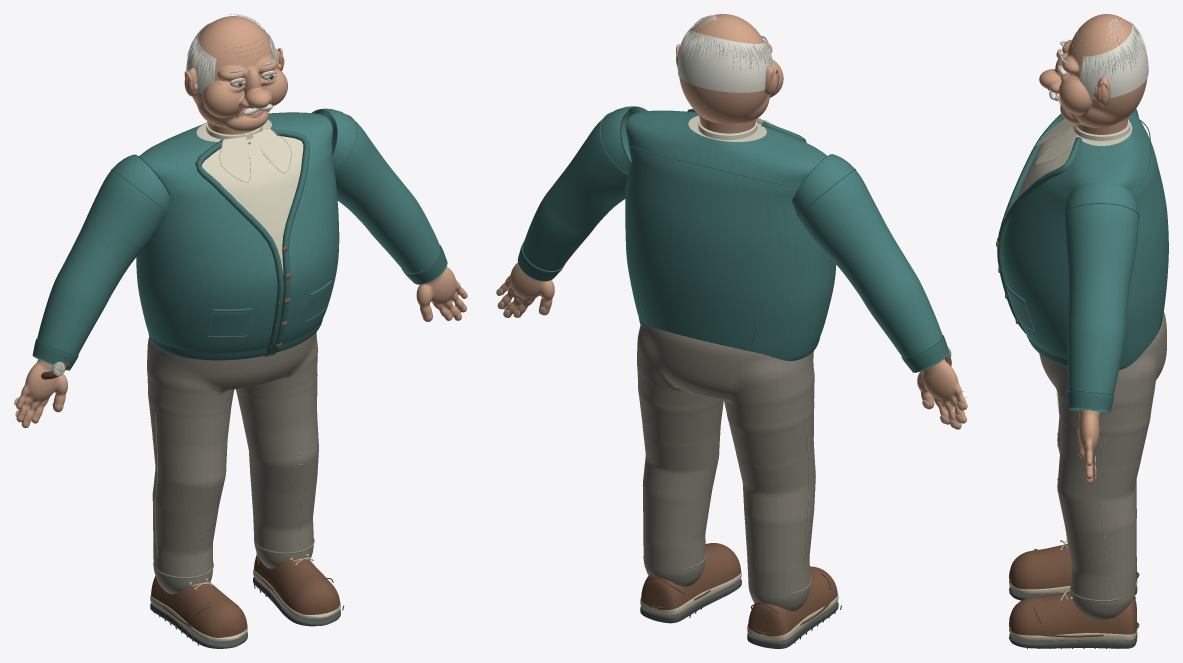
The picture shows the model from 3 angles, left to right: view 1: azimuth 30°, elevation 25°; view 2: azimuth 150°, elevation 25°; view 3: azimuth 270°, elevation 25°; orthographic projection. The views are drawn at different scales.
Parts seen in each view (by area): view 1: Trousers • coherent seat crotch and legs, Cardigan • rounded chest and abdomen, Knitted sleeve -1, Knitted sleeve 1, Otto • sculpted aged head, Details • 03 • darker cardigan ribbing, Oxford shirt beneath open cardigan, Broad chestnut walking shoe -1, Broad chestnut walking shoe 1, Anatomical five digit hand left, Anatomical five digit hand right, Details • Dark flexible walking outsole (+5 smaller); view 2: Cardigan • rounded chest and abdomen, Trousers • coherent seat crotch and legs, Knitted sleeve -1, Knitted sleeve 1, Silver horseshoe hair • bare crown, Otto • sculpted aged head, Broad chestnut walking shoe 1, Details • 03 • darker cardigan ribbing, Broad chestnut walking shoe -1, Anatomical five digit hand left, Anatomical five digit hand right, Details • Dark flexible walking outsole (+4 smaller); view 3: Cardigan • rounded chest and abdomen, Trousers • coherent seat crotch and legs, Knitted sleeve 1, Otto • sculpted aged head, Broad chestnut walking shoe 1, Details • 03 • darker cardigan ribbing, Silver horseshoe hair • bare crown, Broad chestnut walking shoe -1, Oxford shirt beneath open cardigan, Details • Dark flexible walking outsole, Details • Fine warm silver strands, Anatomical five digit hand right (+7 smaller).
Part boxes in pixels (bbox=[...]): Trousers • coherent seat crotch and legs: bbox=[147, 332, 318, 594]; Cardigan • rounded chest and abdomen: bbox=[136, 112, 339, 352]; Knitted sleeve -1: bbox=[37, 154, 169, 355]; Knitted sleeve 1: bbox=[312, 108, 441, 273]; Otto • sculpted aged head: bbox=[192, 16, 287, 131]; Details • 03 • darker cardigan ribbing: bbox=[32, 114, 447, 370]; Oxford shirt beneath open cardigan: bbox=[196, 119, 303, 274]; Broad chestnut walking shoe -1: bbox=[151, 576, 247, 637]; Broad chestnut walking shoe 1: bbox=[254, 555, 339, 614]; Anatomical five digit hand left: bbox=[16, 359, 67, 428]; Anatomical five digit hand right: bbox=[416, 267, 467, 321]; Details • Dark flexible walking outsole: bbox=[150, 577, 343, 648]; Cardigan • rounded chest and abdomen: bbox=[625, 110, 836, 354]; Trousers • coherent seat crotch and legs: bbox=[637, 325, 815, 611]; Knitted sleeve -1: bbox=[792, 154, 942, 357]; Knitted sleeve 1: bbox=[522, 106, 647, 271]; Silver horseshoe hair • bare crown: bbox=[677, 28, 771, 92]; Otto • sculpted aged head: bbox=[679, 14, 783, 123]; Broad chestnut walking shoe 1: bbox=[641, 543, 740, 609]; Details • 03 • darker cardigan ribbing: bbox=[517, 109, 949, 610]; Broad chestnut walking shoe -1: bbox=[748, 566, 837, 636]; Anatomical five digit hand left: bbox=[917, 359, 967, 429]; Anatomical five digit hand right: bbox=[499, 263, 554, 317]; Details • Dark flexible walking outsole: bbox=[640, 578, 841, 648]; Cardigan • rounded chest and abdomen: bbox=[1002, 111, 1168, 361]; Trousers • coherent seat crotch and legs: bbox=[1039, 312, 1166, 620]; Knitted sleeve 1: bbox=[1064, 181, 1138, 394]; Otto • sculpted aged head: bbox=[1039, 14, 1147, 127]; Broad chestnut walking shoe 1: bbox=[1009, 592, 1137, 635]; Details • 03 • darker cardigan ribbing: bbox=[997, 109, 1163, 614]; Silver horseshoe hair • bare crown: bbox=[1080, 20, 1148, 99]; Broad chestnut walking shoe -1: bbox=[1009, 543, 1137, 589]; Oxford shirt beneath open cardigan: bbox=[1016, 118, 1132, 200]; Details • Dark flexible walking outsole: bbox=[1009, 586, 1137, 648]; Details • Fine warm silver strands: bbox=[1055, 18, 1146, 99]; Anatomical five digit hand right: bbox=[1077, 410, 1099, 483].
Bounding box in the file's own units: 1.37 × 1.69 × 0.4437.
29 materials, 4 textured.
